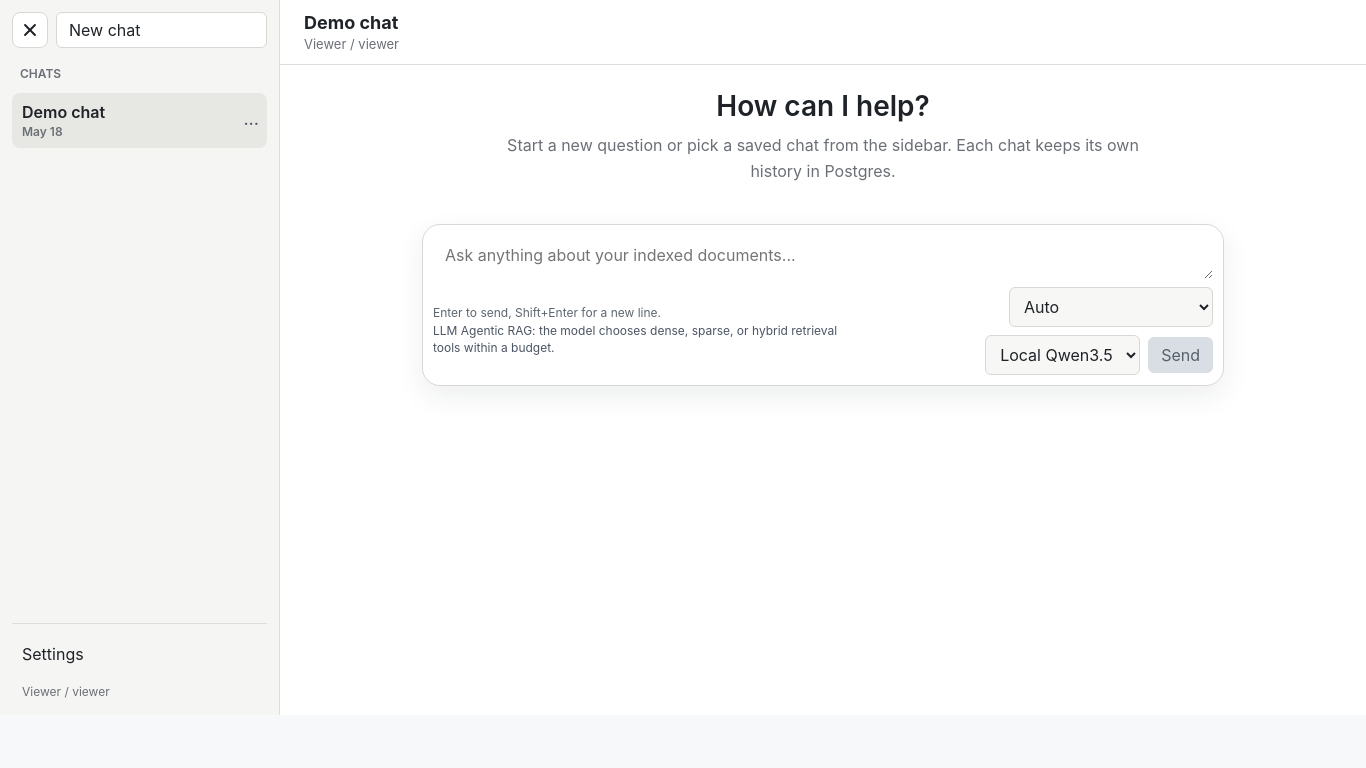
Scenario: can collapse the chat sidebar and keep the composer visible
The image size is (1366, 768).
Expected: the heading "Demo chat" is shown, [304,12,399,33]
Click the button named "Hide sidebar" at (30, 30), box [12,12,48,48]
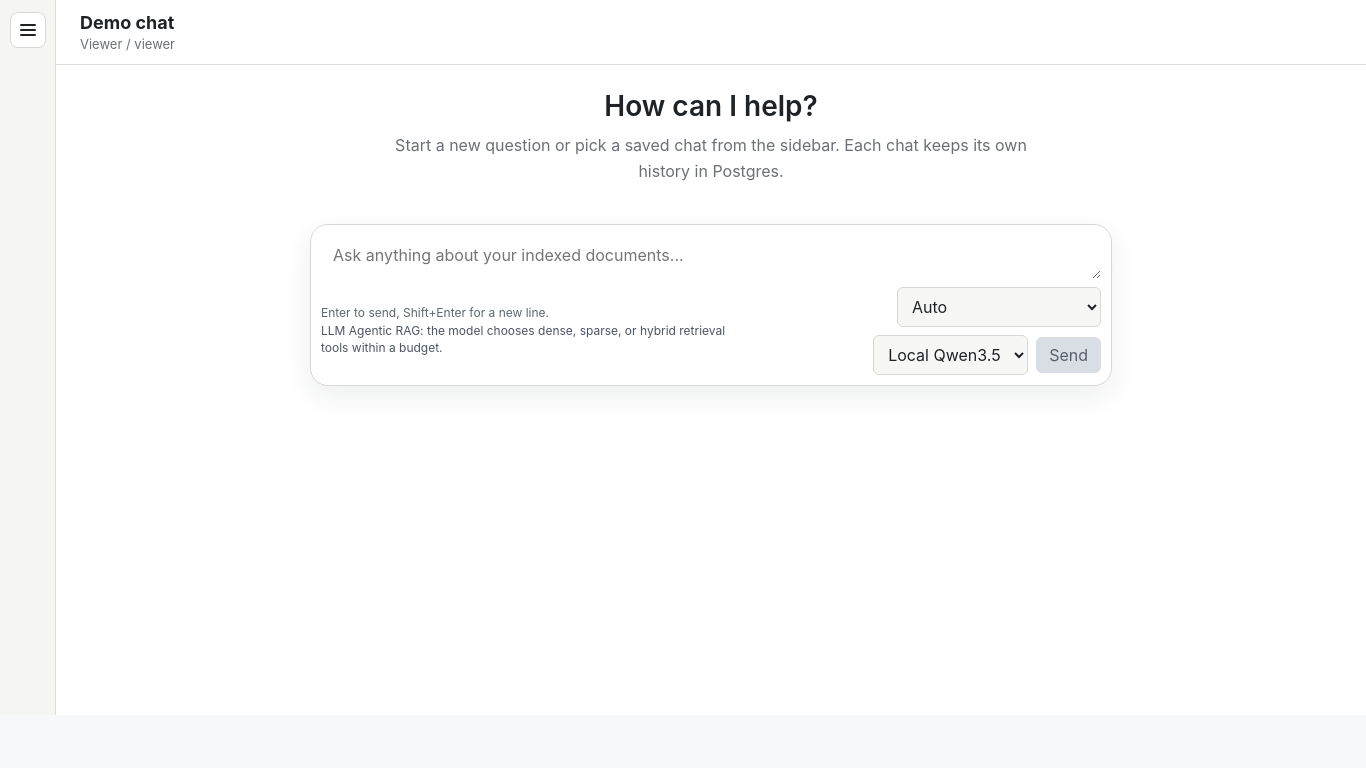
Result: the element with class "sidebar-collapsed" is shown
Result: the button "New chat" is gone
Result: the button named "Show sidebar" is shown at [10,12,46,48]
